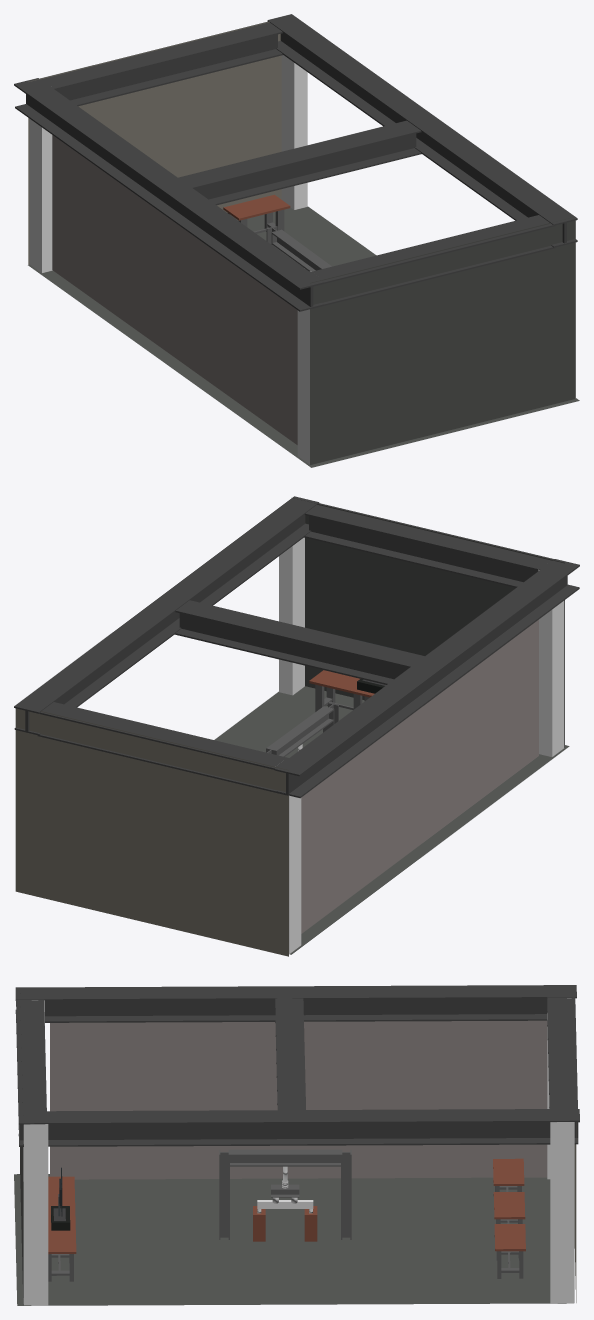
The model's file is escenario-CR-flexion - copia.gltf.
The picture shows the model from 3 angles, top to bottom: view 1: azimuth 30°, elevation 25°; view 2: azimuth 150°, elevation 25°; view 3: azimuth 270°, elevation 25°; orthographic projection.
Parts seen in each view (by area): view 1: VIGAS, PARED-IZQUIERDA, PARED-FONDO, PARED-DERECHA, 007-COLUMNAS, PISO, 006-MUEBLES, 003-MARCO-CARGA; view 2: PARED-DERECHA, VIGAS, PARED-FONDO, PARED-IZQUIERDA, 007-COLUMNAS, PISO, 006-MUEBLES, 003-MARCO-CARGA; view 3: PISO, PARED-FONDO, VIGAS, 007-COLUMNAS, 006-MUEBLES, 003-MARCO-CARGA, 005-APOYOS, 001-VIGA-CR, 004.1-CARGA-2/3, PARED-IZQUIERDA, PARED-DERECHA.
Part boxes in pixels (bbox=[...]): VIGAS: bbox=[14, 14, 577, 311]; PARED-IZQUIERDA: bbox=[310, 216, 575, 464]; PARED-FONDO: bbox=[52, 135, 297, 444]; PARED-DERECHA: bbox=[28, 21, 281, 264]; 007-COLUMNAS: bbox=[29, 55, 575, 464]; PISO: bbox=[28, 206, 579, 467]; 006-MUEBLES: bbox=[223, 194, 290, 233]; 003-MARCO-CARGA: bbox=[266, 226, 331, 271]; PARED-DERECHA: bbox=[15, 708, 288, 956]; VIGAS: bbox=[14, 496, 579, 798]; PARED-FONDO: bbox=[301, 619, 538, 933]; PARED-IZQUIERDA: bbox=[293, 498, 564, 747]; 007-COLUMNAS: bbox=[275, 537, 564, 954]; PISO: bbox=[214, 686, 569, 954]; 006-MUEBLES: bbox=[309, 639, 398, 711]; 003-MARCO-CARGA: bbox=[263, 702, 338, 756]; PISO: bbox=[14, 1174, 573, 1305]; PARED-FONDO: bbox=[50, 1020, 547, 1179]; VIGAS: bbox=[15, 985, 579, 1146]; 007-COLUMNAS: bbox=[23, 998, 574, 1305]; 006-MUEBLES: bbox=[48, 1158, 525, 1281]; 003-MARCO-CARGA: bbox=[219, 1149, 351, 1239]; 005-APOYOS: bbox=[253, 1206, 317, 1241]; 001-VIGA-CR: bbox=[257, 1200, 313, 1208]; 004.1-CARGA-2/3: bbox=[271, 1184, 299, 1203]; PARED-IZQUIERDA: bbox=[20, 993, 23, 1297]; PARED-DERECHA: bbox=[573, 997, 576, 1302].
Bounding box in the file's own units: 10.6 × 6.51 × 18.2.
